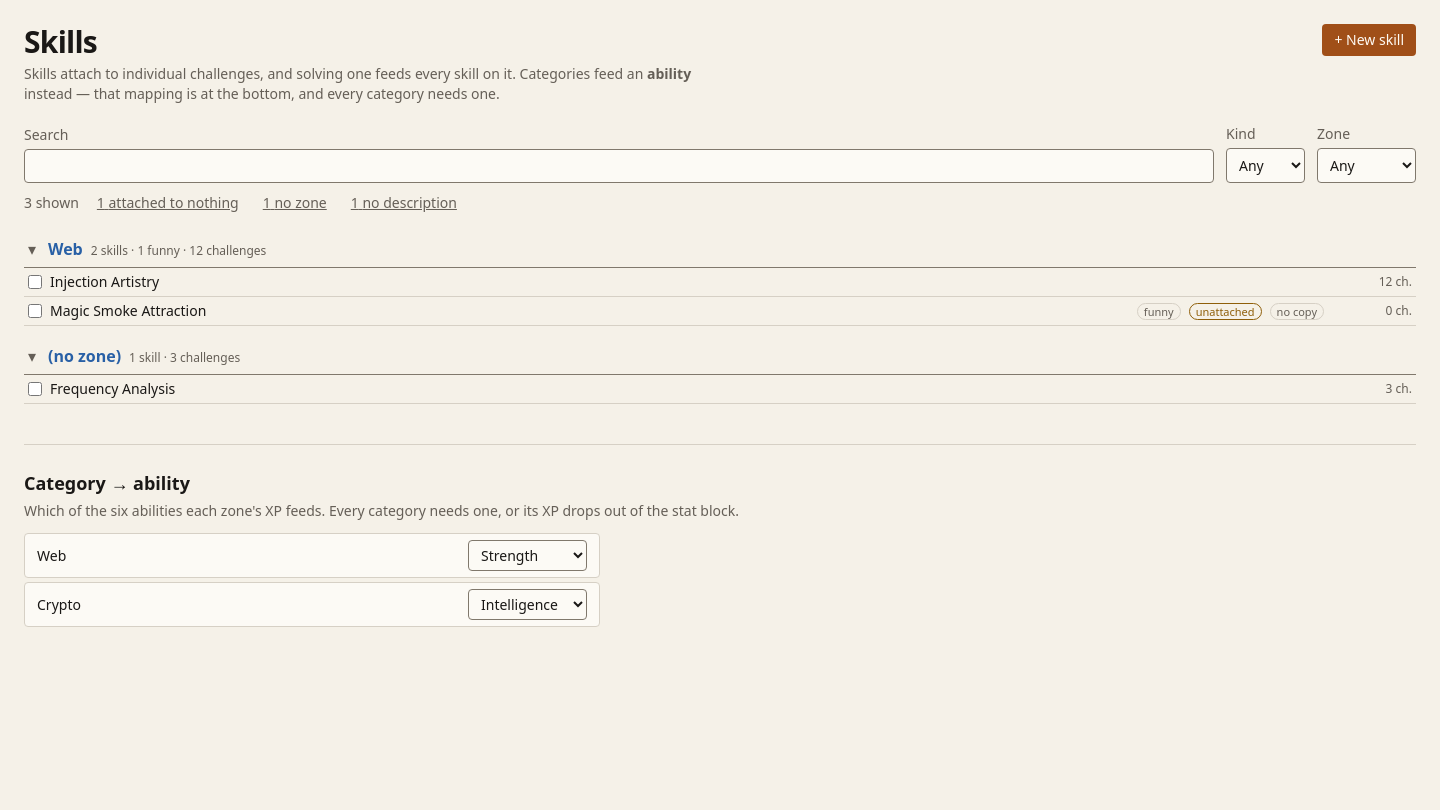
AdminSkillsPage › searches by name
The image size is (1440, 810).
Expected: the button "Injection Artistry" is shown, [50,272,1324,292]
Type "smoke" into the field named "Search skills" at (619, 166), box [24,149,1214,183]
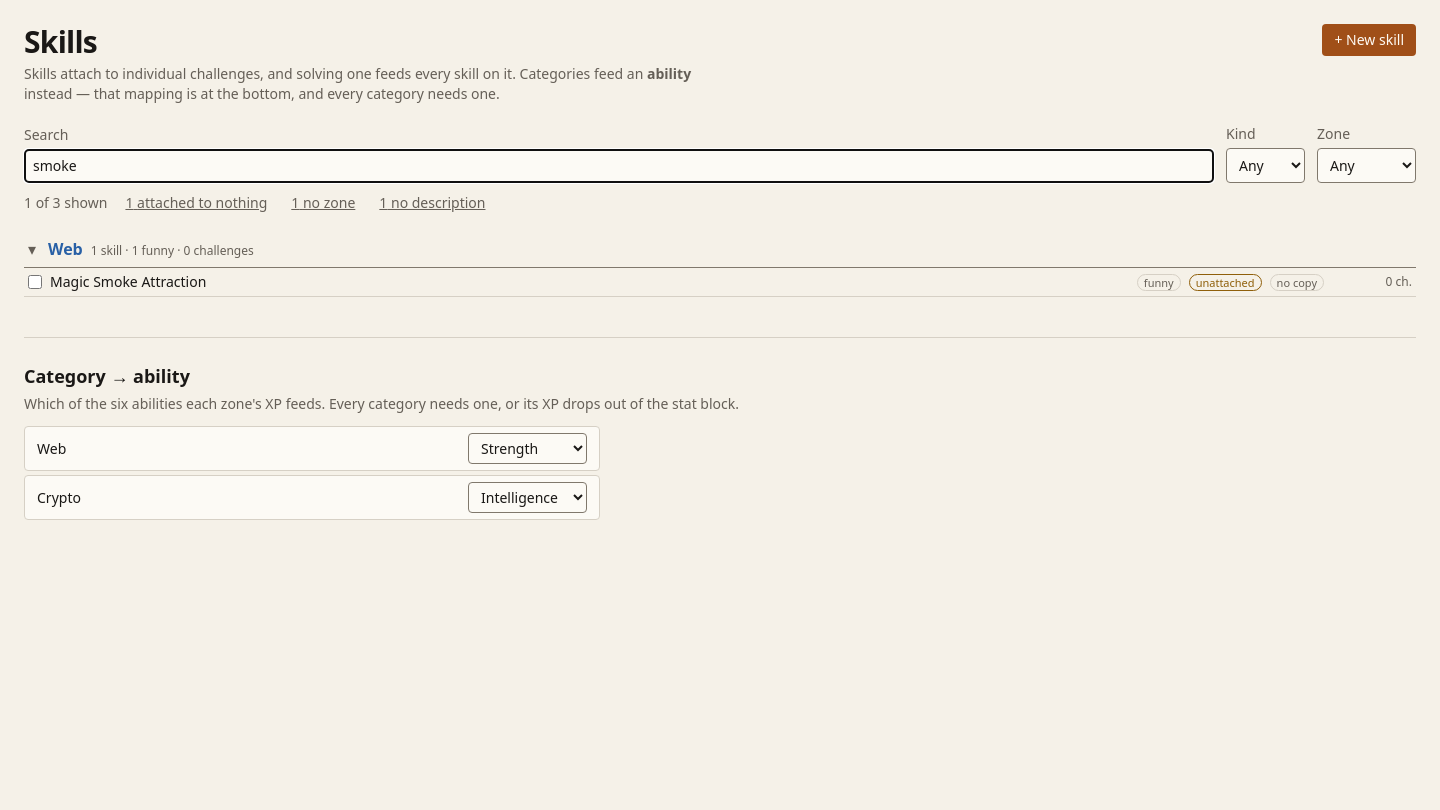
Expected: the button "Magic Smoke Attraction" is shown, [50,272,1129,292]
Now the button "Injection Artistry" is gone
